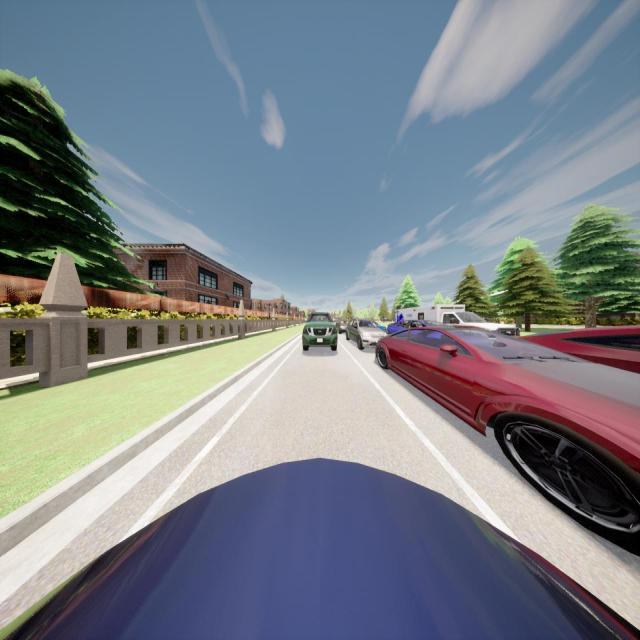Vehicle: (0, 454, 640, 640), (375, 324, 639, 554), (513, 323, 640, 372), (394, 304, 520, 336), (302, 312, 338, 352), (346, 318, 386, 350), (387, 320, 441, 337), (338, 321, 347, 334)
